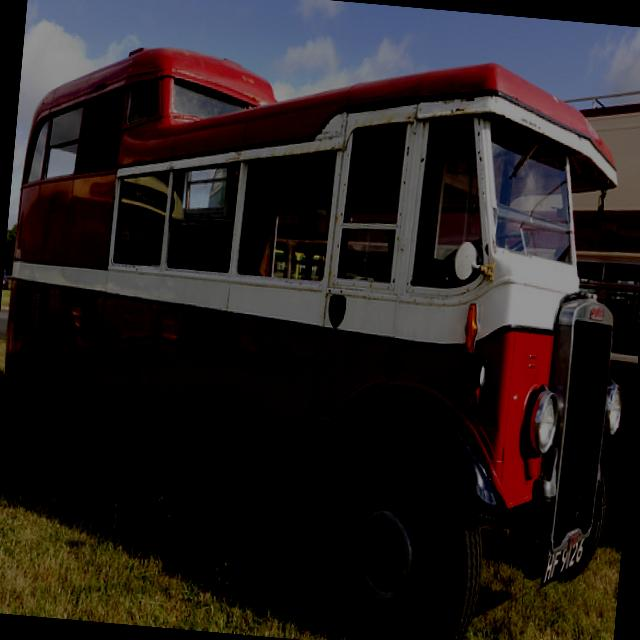Vehicle: (0, 27, 640, 640), (554, 200, 640, 514), (2, 266, 8, 288)
